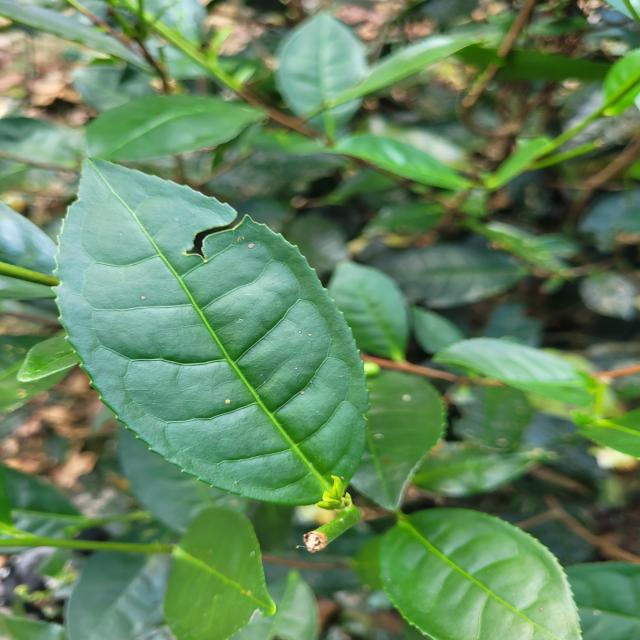Category D(7+ days, Not for Tea): (41, 134, 387, 517)
